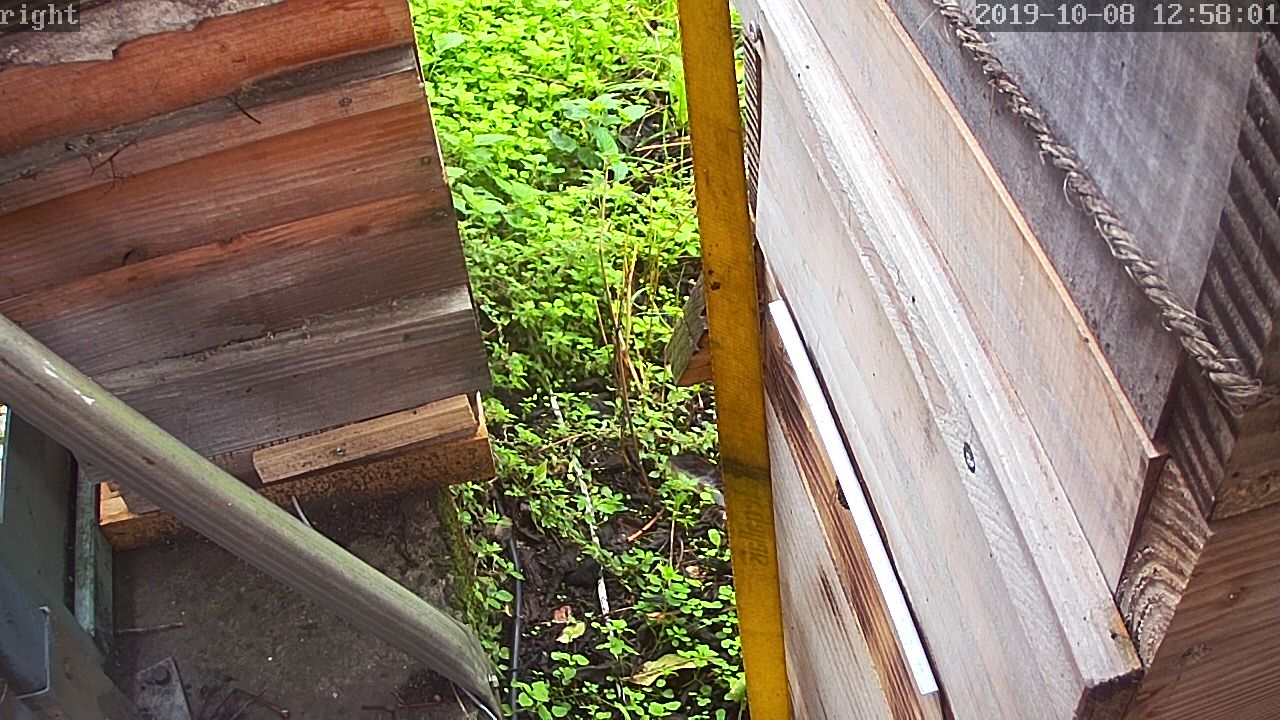bee: (824, 472, 854, 514)
